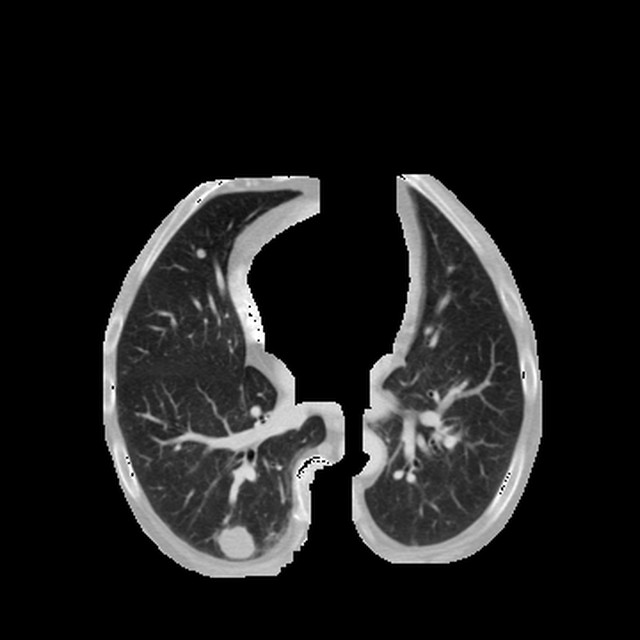PN: (196, 247, 206, 258)
